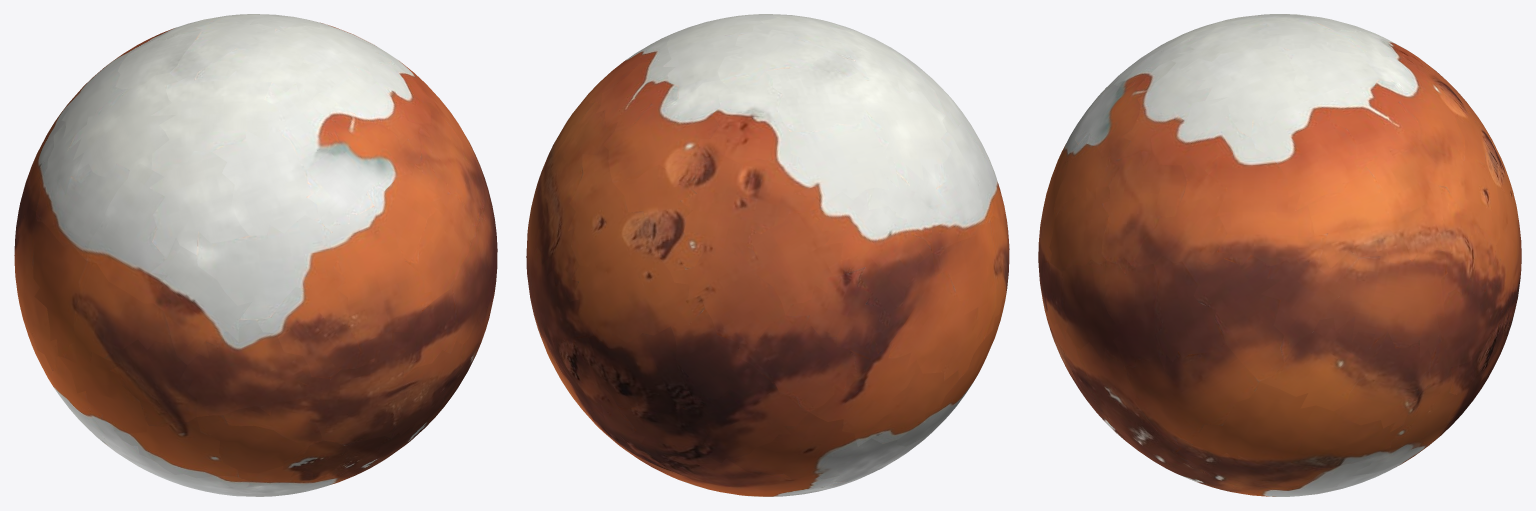
File: solar-mars.glb
3 renders of one model, left to right at view 1: azimuth 30°, elevation 25°; view 2: azimuth 150°, elevation 25°; view 3: azimuth 270°, elevation 25°, orthographic.
Bounding box in the file's own units: 1.9 × 1.9 × 1.89.
1 material, 1 textured.
